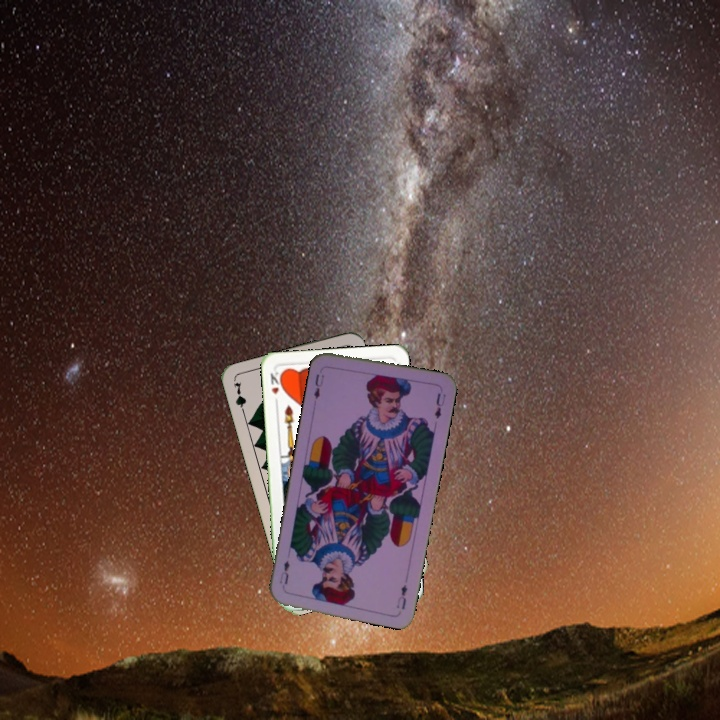EU: (392, 581, 410, 612), (310, 370, 327, 401)
G7: (230, 378, 249, 418)
HK: (266, 368, 281, 407)
